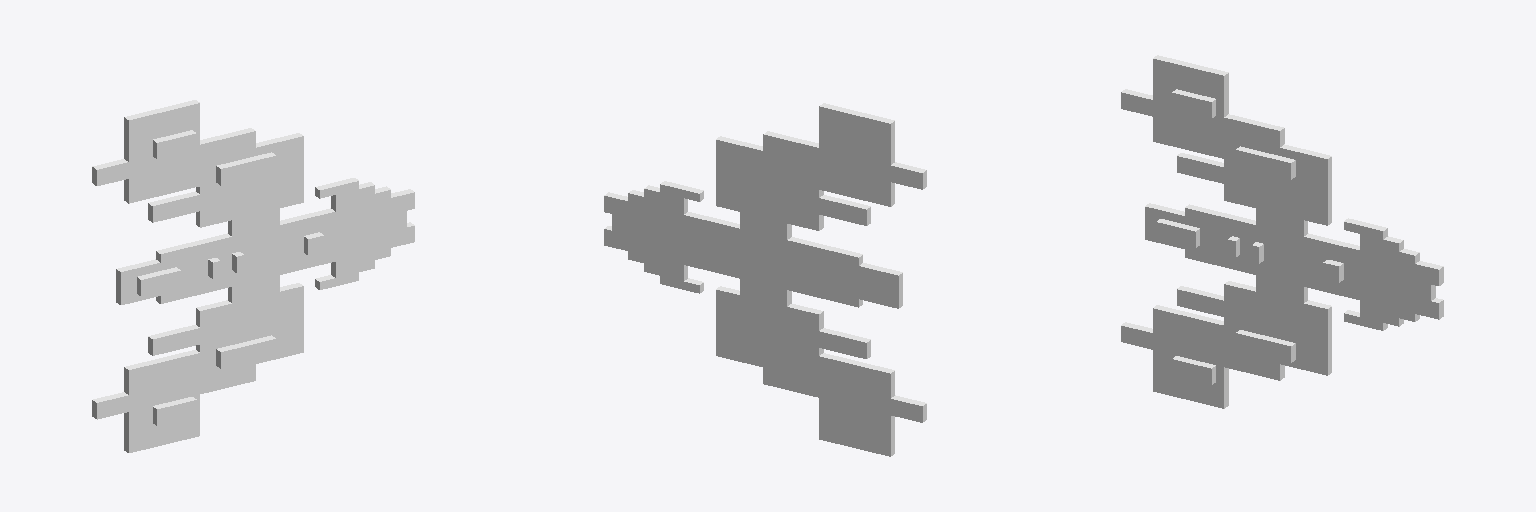
The model's file is Player.obj.
3 views of the same model, side by side, from view 1: azimuth 30°, elevation 25°; view 2: azimuth 150°, elevation 25°; view 3: azimuth 330°, elevation 25° (orthographic).
Parts seen in each view (by area): view 1: Player; view 2: Player; view 3: Player.
Boxes of the visible parts, box(x1,y1,x2,y2) form: Player: box(92, 100, 414, 452); Player: box(604, 103, 926, 456); Player: box(1121, 55, 1443, 408).
Size of the model in its own units: 10 by 10 by 0.5.